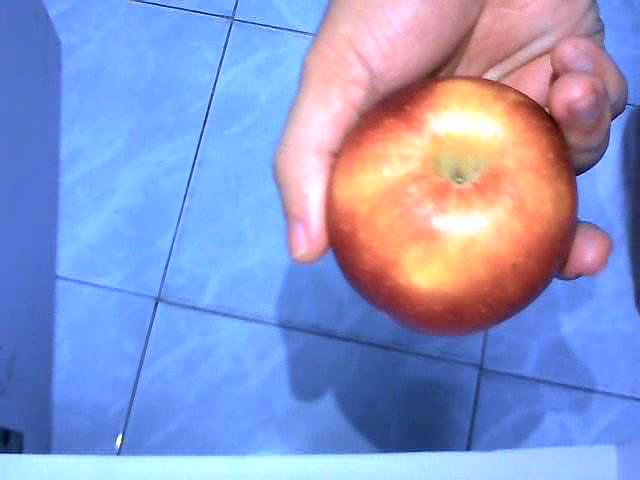apple: (323, 75, 577, 338)
